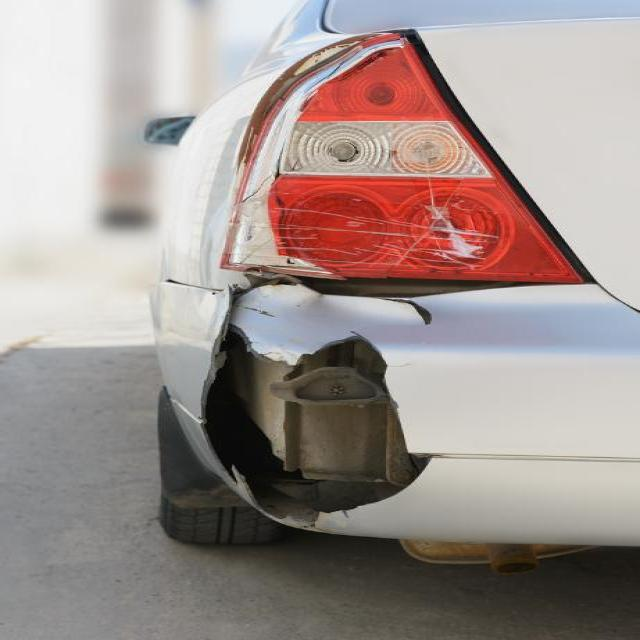Bumper: (169, 291, 556, 507)
